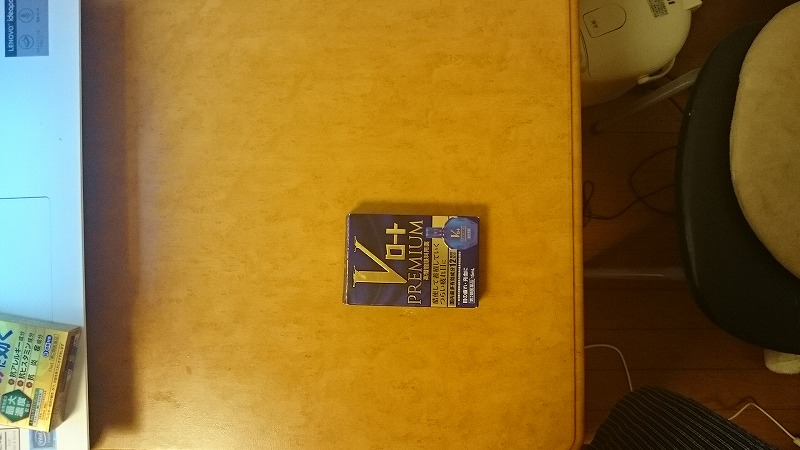D: (331, 209, 490, 318)
